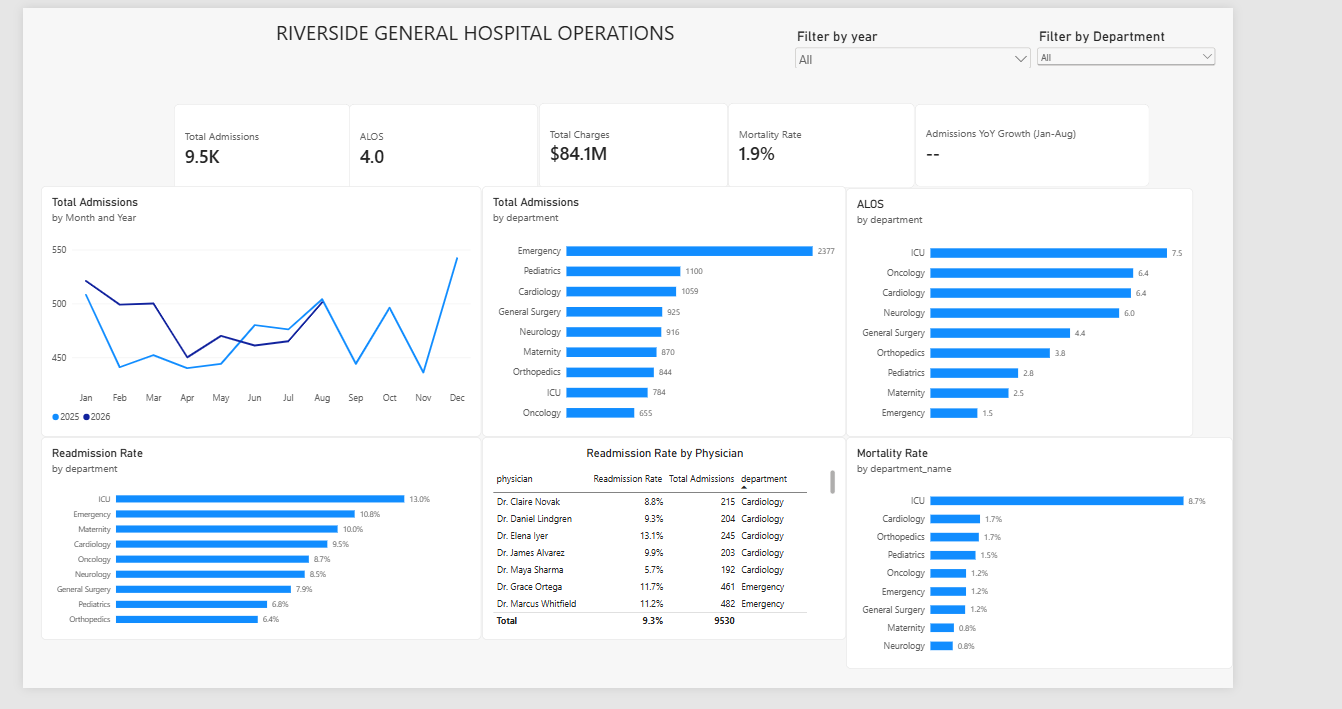

What the dashboard file says about the page in this screenshot:
{"tool":"powerbi","page":{"name":"Page 1","canvas":[1920,1080],"ordinal":0},"visuals":[{"type":"cardVisual","fields":{"Data":["fact_admissions.Total Admissions"]},"box":[239.3,151.7,280.1,140.1],"z":0},{"type":"cardVisual","fields":{"Data":["fact_admissions.ALOS"]},"box":[517.9,151.7,300.5,140.1],"z":1000},{"type":"cardVisual","fields":{"Data":["fact_admissions.Mortality Rate"]},"box":[1119,150.3,296.2,135.7],"z":2000},{"type":"cardVisual","fields":{"Data":["fact_admissions.Total Charges"]},"box":[818.5,150.3,300.5,135.7],"z":3000},{"type":"lineChart","fields":{"Category":["dim_date.Month"],"Series":["dim_date.Year"],"Y":["fact_admissions.Total Admissions"]},"box":[29.2,283,698.8,398.3],"z":4000},{"type":"clusteredBarChart","fields":{"Category":["dim_departments.department_name"],"Y":["fact_admissions.Total Admissions"]},"box":[728,283,577.8,398.3],"z":5000},{"type":"slicer","fields":{"Values":["dim_date.Year"]},"box":[1221.2,32.1,383.7,62.7],"z":6000},{"type":"slicer","fields":{"Values":["dim_departments.department_name"]},"box":[1604.9,32.1,293.3,62.7],"z":7000},{"type":"textbox","box":[401.2,16,790.8,93.4],"z":8000},{"type":"clusteredBarChart","fields":{"Category":["dim_departments.department_name"],"Y":["fact_admissions.ALOS"]},"box":[1305.8,286,551.5,395.4],"z":9000},{"type":"clusteredBarChart","fields":{"Category":["dim_departments.department_name"],"Y":["fact_admissions.Readmission Rate"]},"box":[29,681,698.8,322.4],"z":10000},{"type":"tableEx","title":"Readmission Rate by Physician","fields":{"Values":["dim_physicians.physician_name","fact_admissions.Readmission Rate","fact_admissions.Total Admissions","dim_departments.department_name"]},"box":[728,681,578,322],"z":11000},{"type":"clusteredBarChart","fields":{"Category":["dim_departments.department_name"],"Y":["fact_admissions.Mortality Rate"]},"box":[1305.8,681.3,614.2,367.7],"z":12000},{"type":"cardVisual","fields":{"Data":["fact_admissions.Admissions YoY %"]},"box":[1415.2,151.7,372,131.3],"z":13000}]}

Visuals, with their boxes on the page's 1920x1080 design canvas (x1, y1, x2, y2). These are canvas units, not pixel positions in the 1342x709 screenshot, which may show the page scaled, cropped or inside an application window:
cardVisual - fact_admissions.Total Admissions: 239/152/519/292
cardVisual - fact_admissions.ALOS: 518/152/818/292
cardVisual - fact_admissions.Mortality Rate: 1119/150/1415/286
cardVisual - fact_admissions.Total Charges: 818/150/1119/286
lineChart - dim_date.Month x dim_date.Year: 29/283/728/681
clusteredBarChart - dim_departments.department_name x fact_admissions.Total Admissions: 728/283/1306/681
slicer - dim_date.Year: 1221/32/1605/95
slicer - dim_departments.department_name: 1605/32/1898/95
textbox: 401/16/1192/109
clusteredBarChart - dim_departments.department_name x fact_admissions.ALOS: 1306/286/1857/681
clusteredBarChart - dim_departments.department_name x fact_admissions.Readmission Rate: 29/681/728/1003
"Readmission Rate by Physician" tableEx: 728/681/1306/1003
clusteredBarChart - dim_departments.department_name x fact_admissions.Mortality Rate: 1306/681/1920/1049
cardVisual - fact_admissions.Admissions YoY %: 1415/152/1787/283
